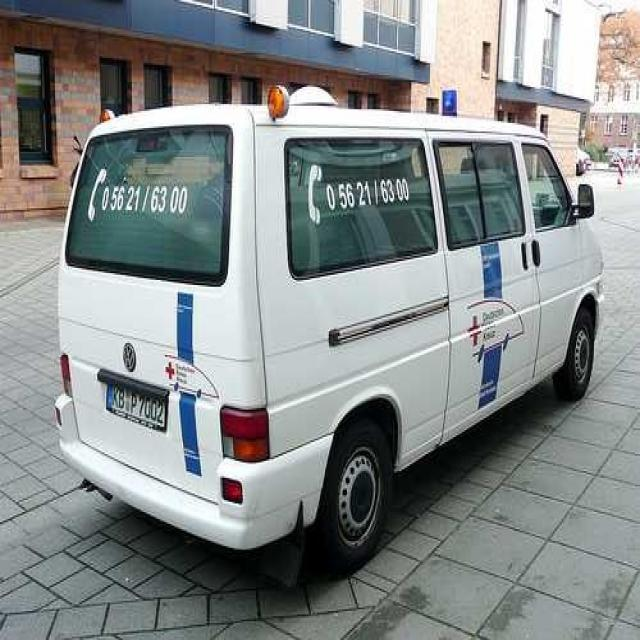emergency-vehicle: (54, 83, 600, 554)
